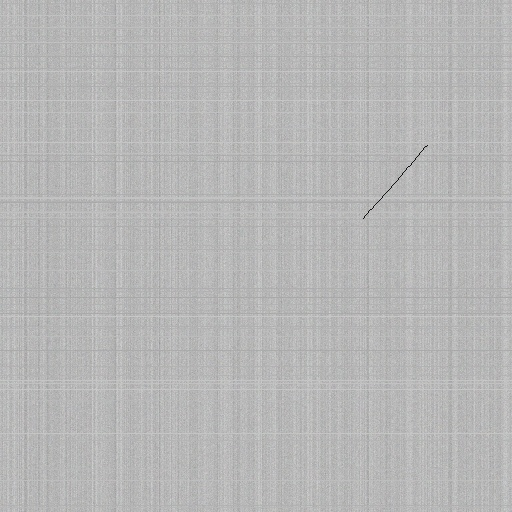scratch: (358, 140, 432, 223)
